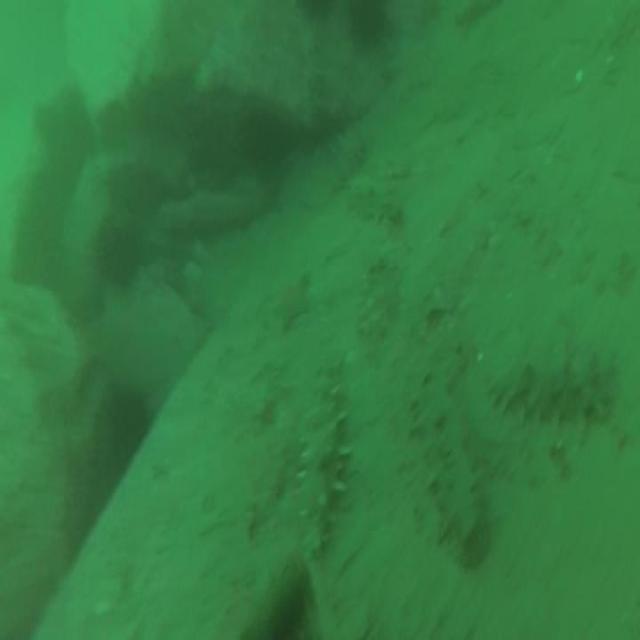echinus: (95, 400, 149, 493), (50, 93, 90, 166), (97, 224, 140, 290), (238, 109, 280, 172), (350, 2, 387, 42)
holothurian: (408, 361, 482, 548), (492, 356, 618, 428), (300, 354, 346, 547), (359, 251, 390, 351), (348, 174, 404, 224), (335, 122, 365, 185)
starfish: (272, 273, 310, 329)
